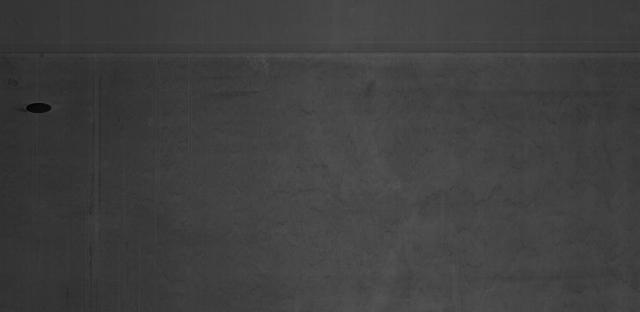punching_hole: (20, 100, 54, 116)
silk_spot: (122, 77, 632, 302)
welding_line: (7, 36, 636, 66)
